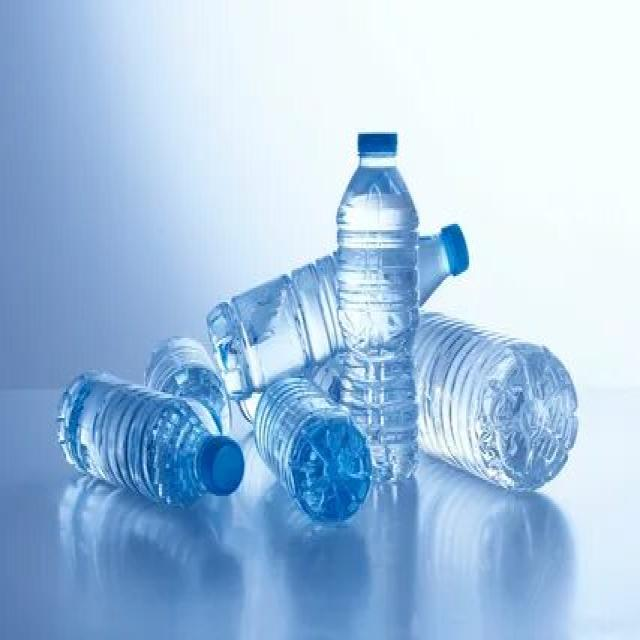blue: (61, 375, 205, 508), (255, 373, 372, 522)
